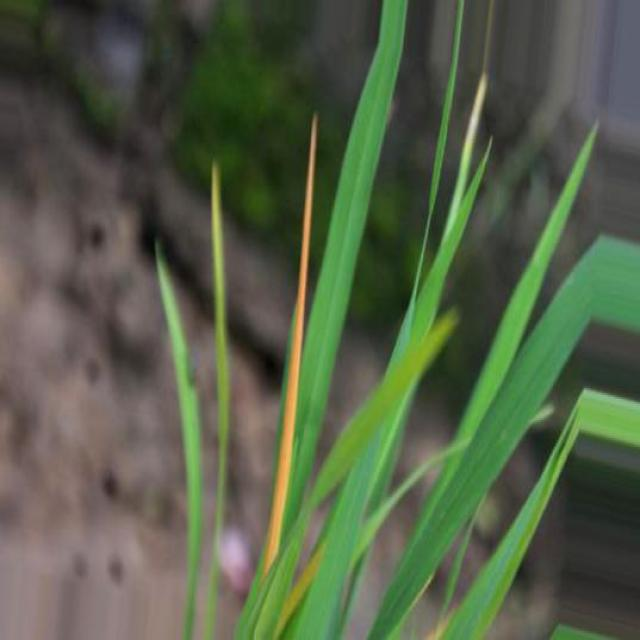Rice Tungro: (262, 114, 317, 578)
